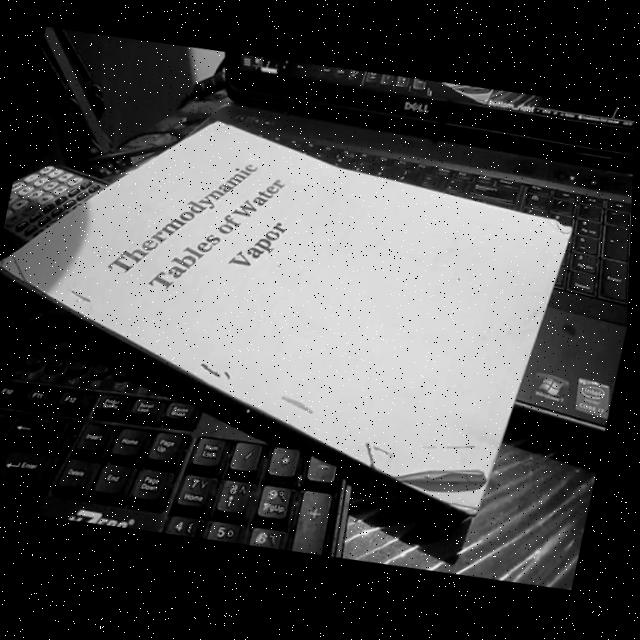document: (2, 122, 569, 514)
